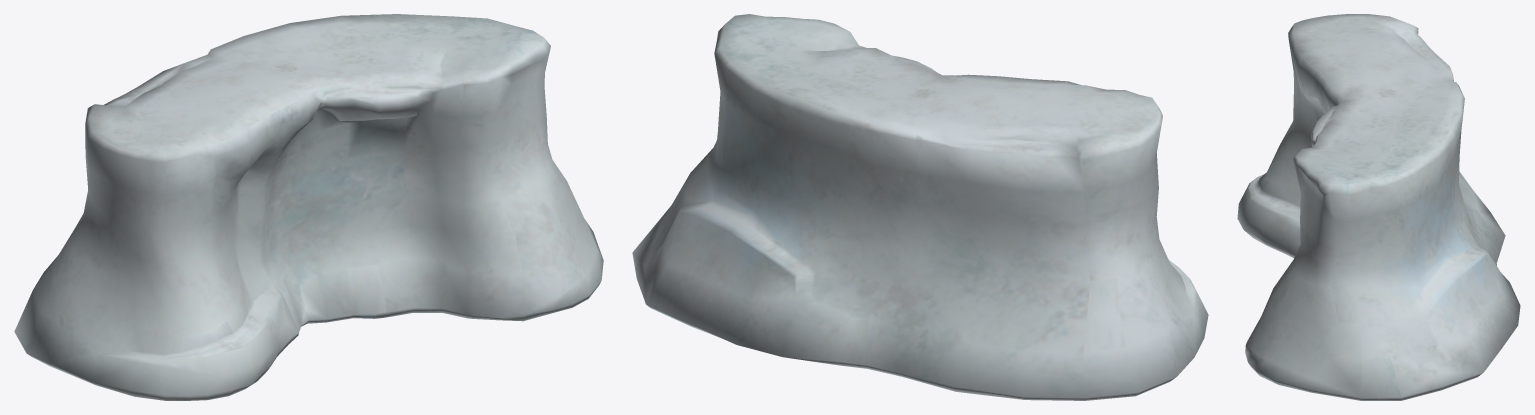
The model's file is P_RockDesert_CliffB07.obj.
3 views of the same model, side by side, from view 1: azimuth 30°, elevation 25°; view 2: azimuth 150°, elevation 25°; view 3: azimuth 270°, elevation 25° (orthographic). The views are drawn at different scales.
Size of the model in its own units: 129 by 54.78 by 68.77.
